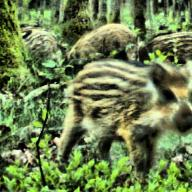boar: (61, 55, 192, 177)
